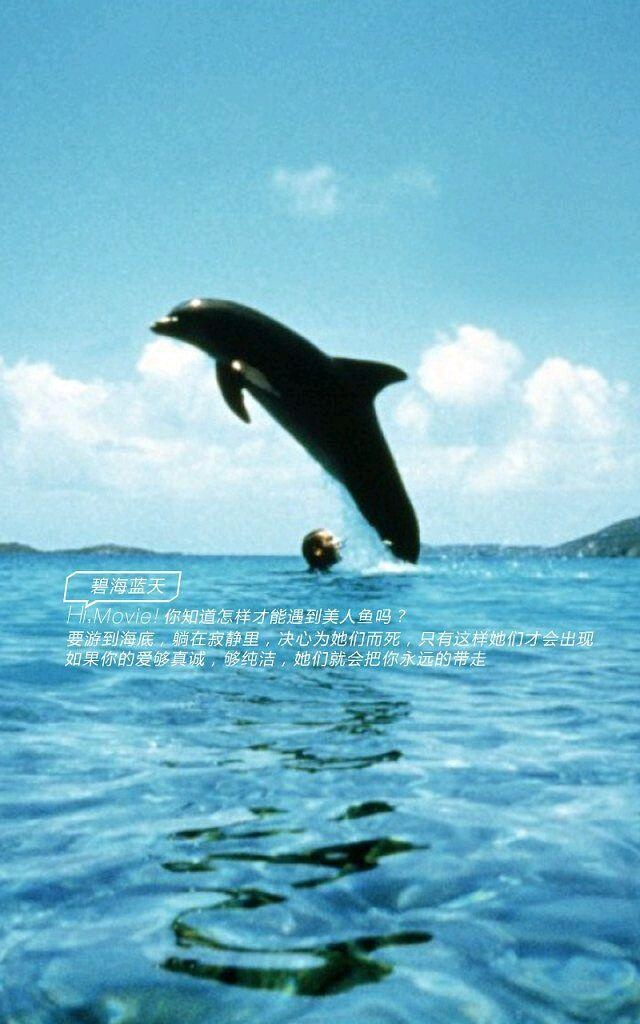fish: (145, 290, 453, 567)
